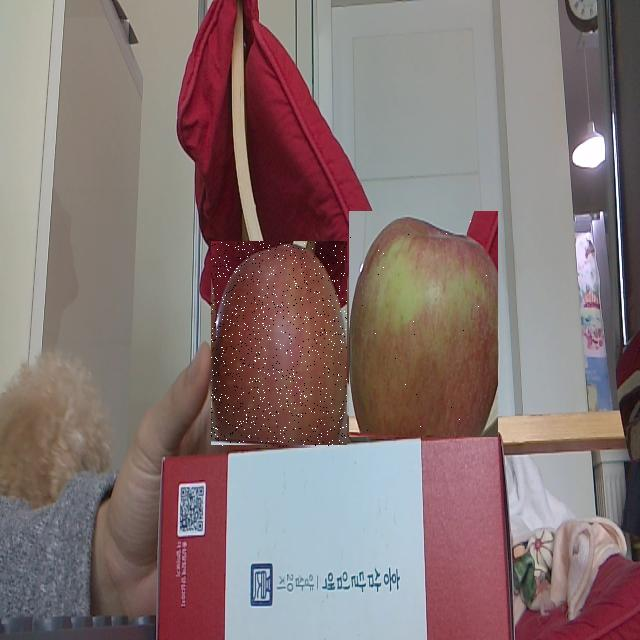apple: (349, 211, 498, 437), (211, 242, 347, 448)
